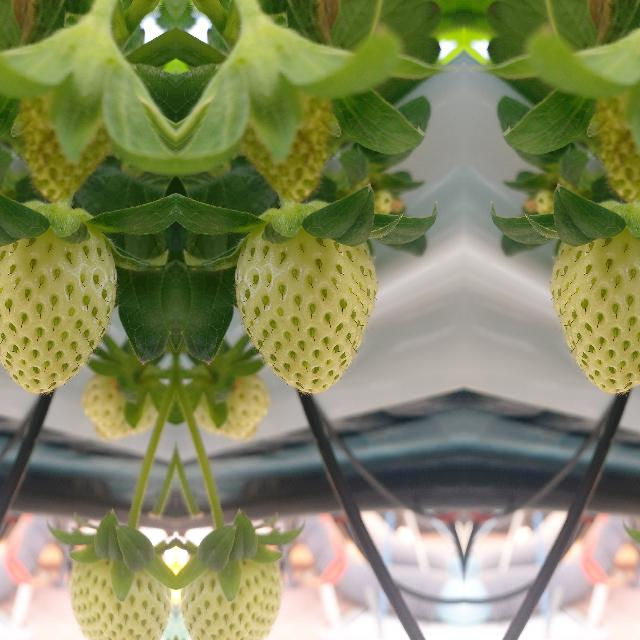Health_25: (234, 224, 376, 392), (0, 223, 116, 392), (549, 223, 640, 392)
